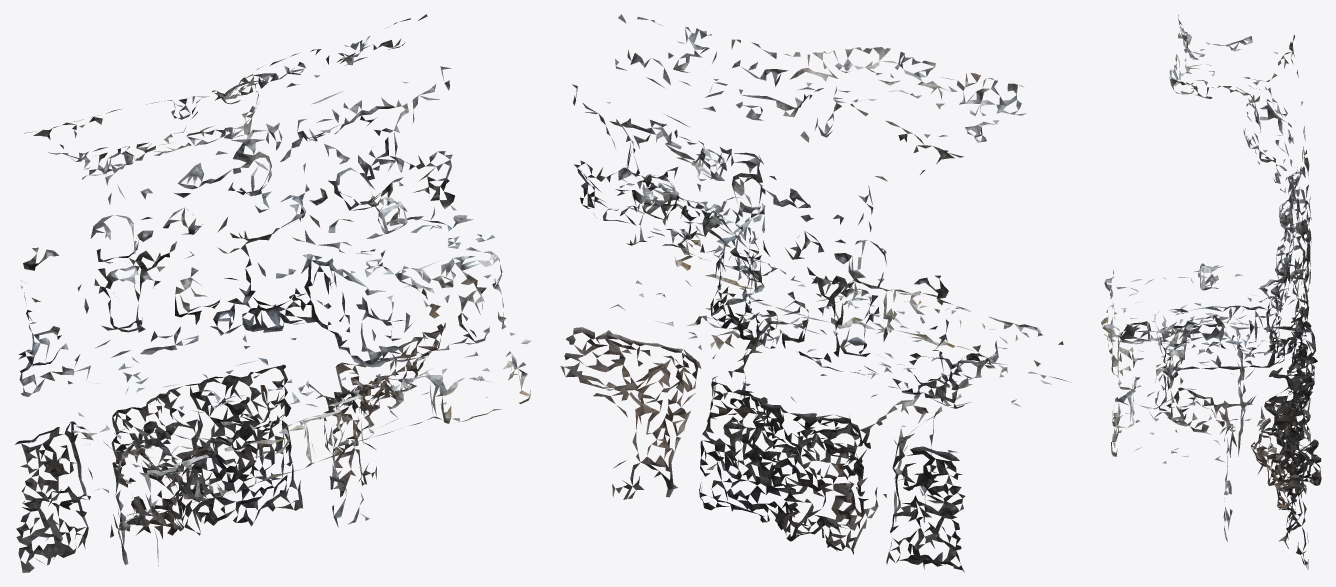
3 renders of one model, left to right at view 1: azimuth 30°, elevation 25°; view 2: azimuth 150°, elevation 25°; view 3: azimuth 270°, elevation 25°, orthographic. The views are drawn at different scales.
Size of the model in its own units: 6.83 by 7.31 by 3.47.
Materials: 1 (1 with a texture image).
